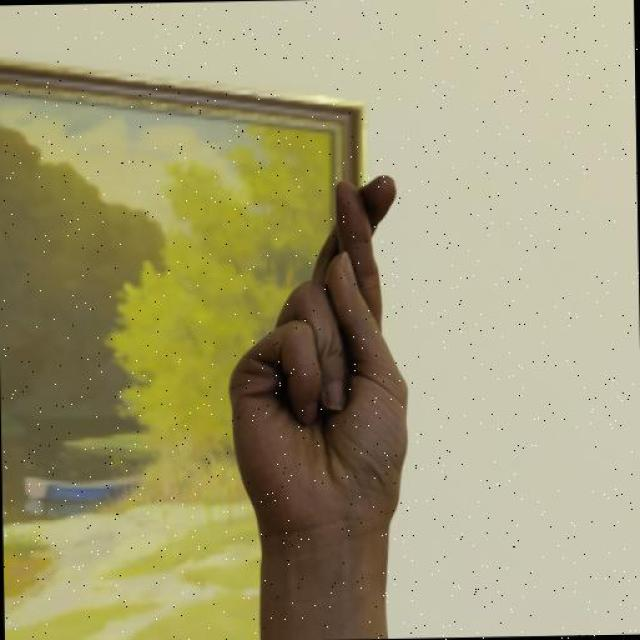R: (218, 166, 429, 552)
